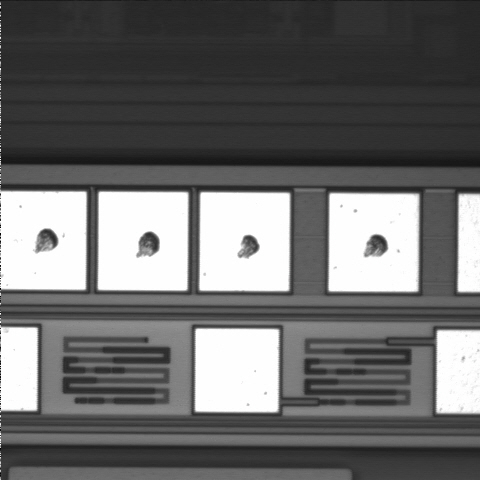pad: (199, 192, 290, 291), (329, 193, 419, 292), (98, 192, 188, 290), (195, 329, 279, 412)
